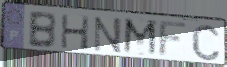B: (27, 11, 58, 50)
C: (190, 22, 222, 62)
F: (157, 20, 191, 59)
H: (60, 13, 92, 52)
M: (121, 17, 159, 59)
N: (92, 15, 123, 55)
